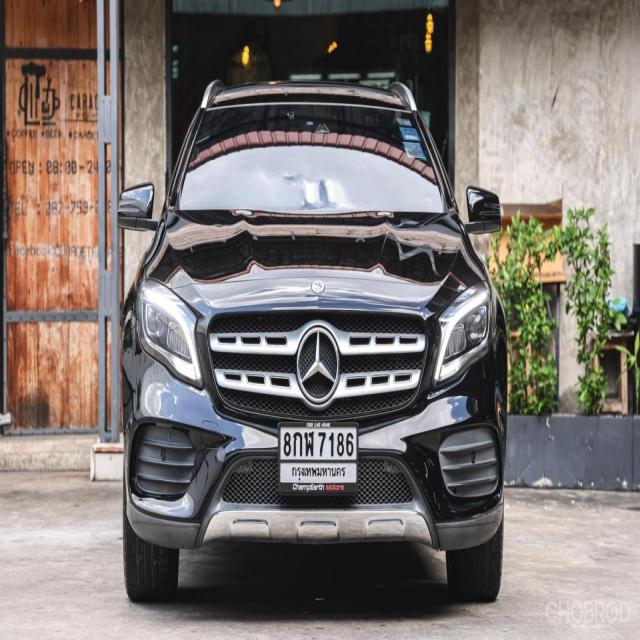license_plate: (278, 424, 358, 493)
